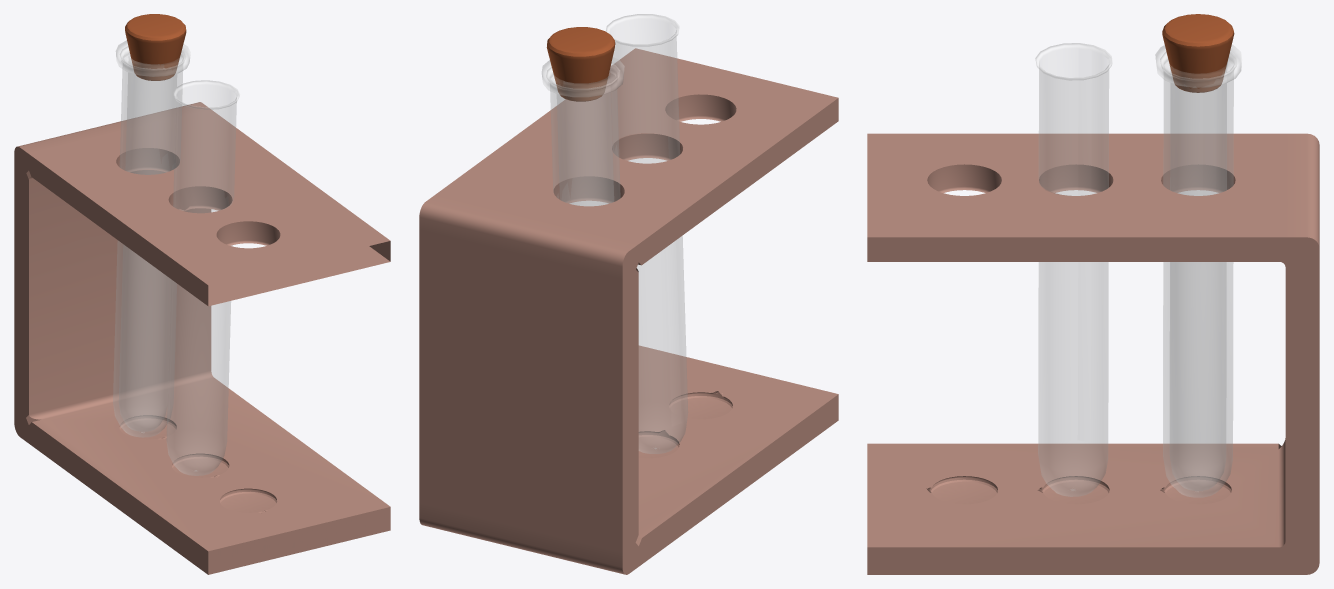
Rendered from TubosVacio.fbx.
3 renders of one model, left to right at view 1: azimuth 30°, elevation 25°; view 2: azimuth 150°, elevation 25°; view 3: azimuth 270°, elevation 25°, orthographic. The views are drawn at different scales.
Parts seen in each view (by area): view 1: Gia_ong_nghiem, ong_nghiem_2, ong_nghiem_1_co_nap, nap_ong_nghiem; view 2: Gia_ong_nghiem, ong_nghiem_2, ong_nghiem_1_co_nap, nap_ong_nghiem; view 3: Gia_ong_nghiem, ong_nghiem_2, ong_nghiem_1_co_nap, nap_ong_nghiem.
Part boxes in pixels (x1=…): Gia_ong_nghiem: x1=14, y1=102, x2=390, y2=574; ong_nghiem_2: x1=166, y1=80, x2=239, y2=475; ong_nghiem_1_co_nap: x1=113, y1=40, x2=190, y2=437; nap_ong_nghiem: x1=125, y1=14, x2=186, y2=80; Gia_ong_nghiem: x1=419, y1=48, x2=838, y2=574; ong_nghiem_2: x1=606, y1=14, x2=687, y2=453; ong_nghiem_1_co_nap: x1=542, y1=57, x2=624, y2=206; nap_ong_nghiem: x1=546, y1=27, x2=615, y2=101; Gia_ong_nghiem: x1=867, y1=133, x2=1319, y2=574; ong_nghiem_2: x1=1035, y1=43, x2=1112, y2=496; ong_nghiem_1_co_nap: x1=1155, y1=44, x2=1241, y2=497; nap_ong_nghiem: x1=1162, y1=14, x2=1234, y2=92.
Bounding box in the file's own units: 0.793 × 1.76 × 1.46.
